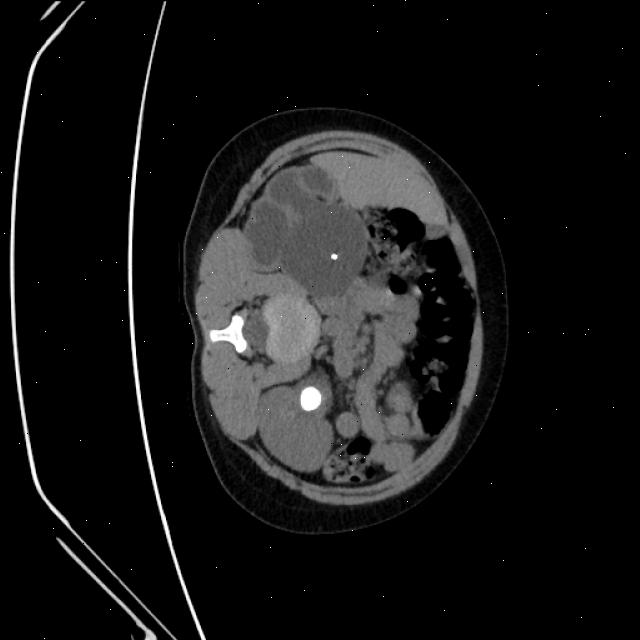kidneystone: (299, 386, 320, 411), (329, 252, 338, 261)
